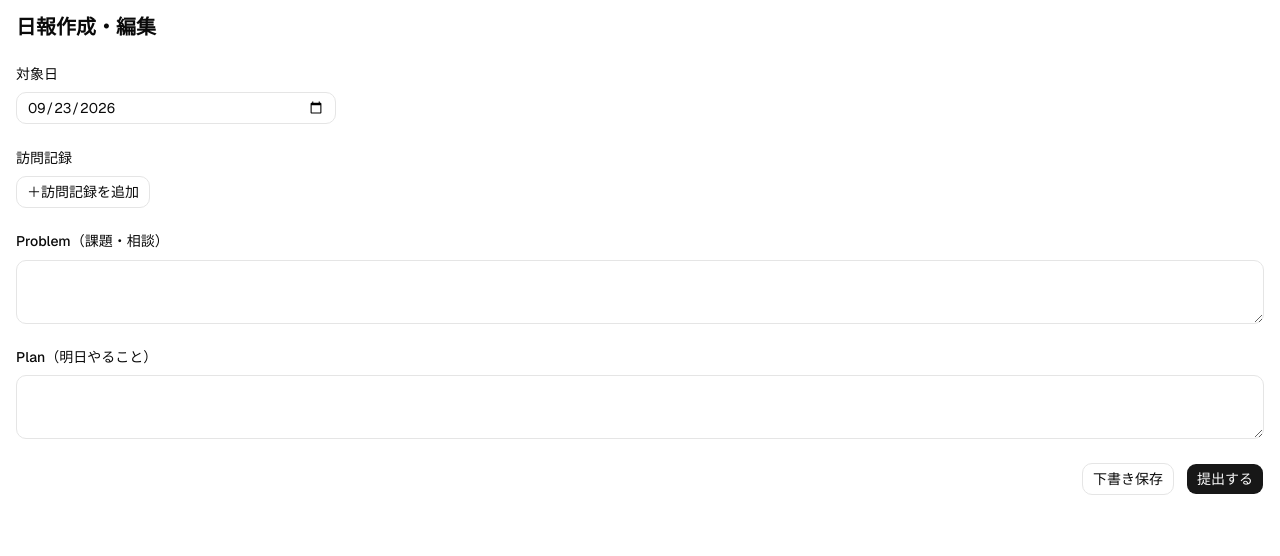
Scenario: ReportForm (create mode) › shows the API's conflict message on a duplicate date (TC-SCR02-06)
This screenshot has width=1280, height=556.
Click the button "下書き保存" at (1128, 479), box [1082,463,1174,495]
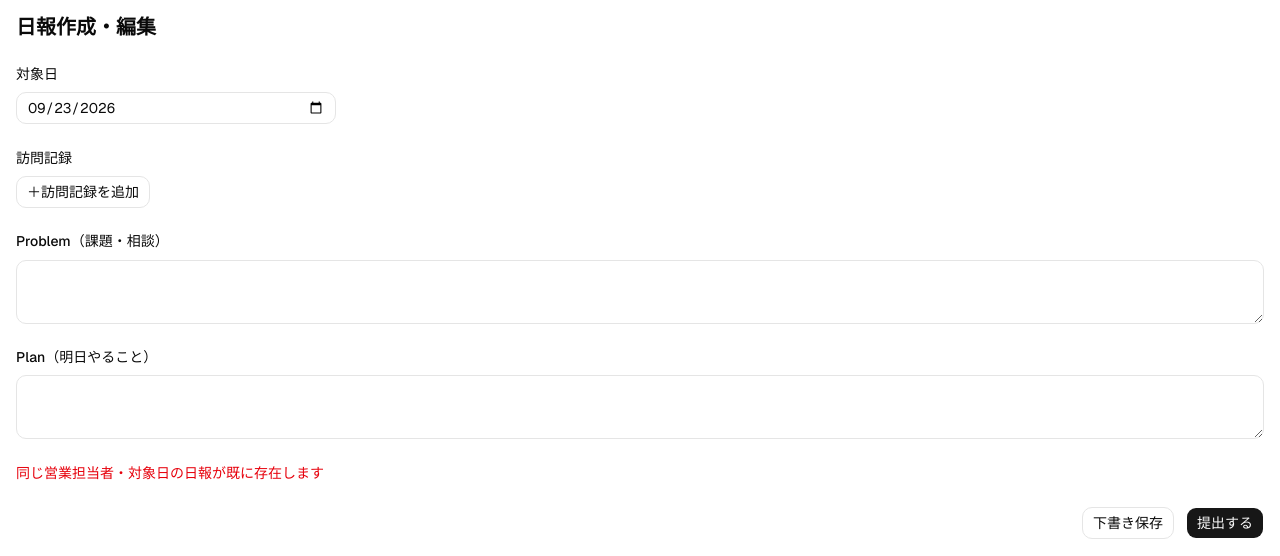
Now the text "同じ営業担当者・対象日の日報が既に存在します" is shown, box [16,464,324,482]
